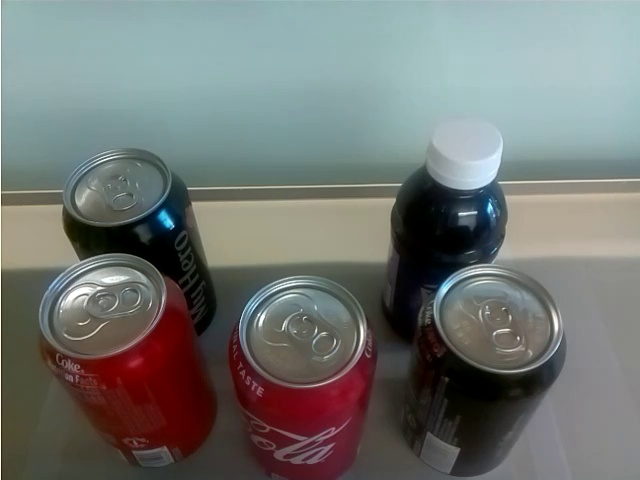cocacola: (31, 257, 226, 476), (394, 266, 568, 479), (231, 274, 382, 477), (49, 146, 194, 252)
juice: (391, 110, 513, 266)
